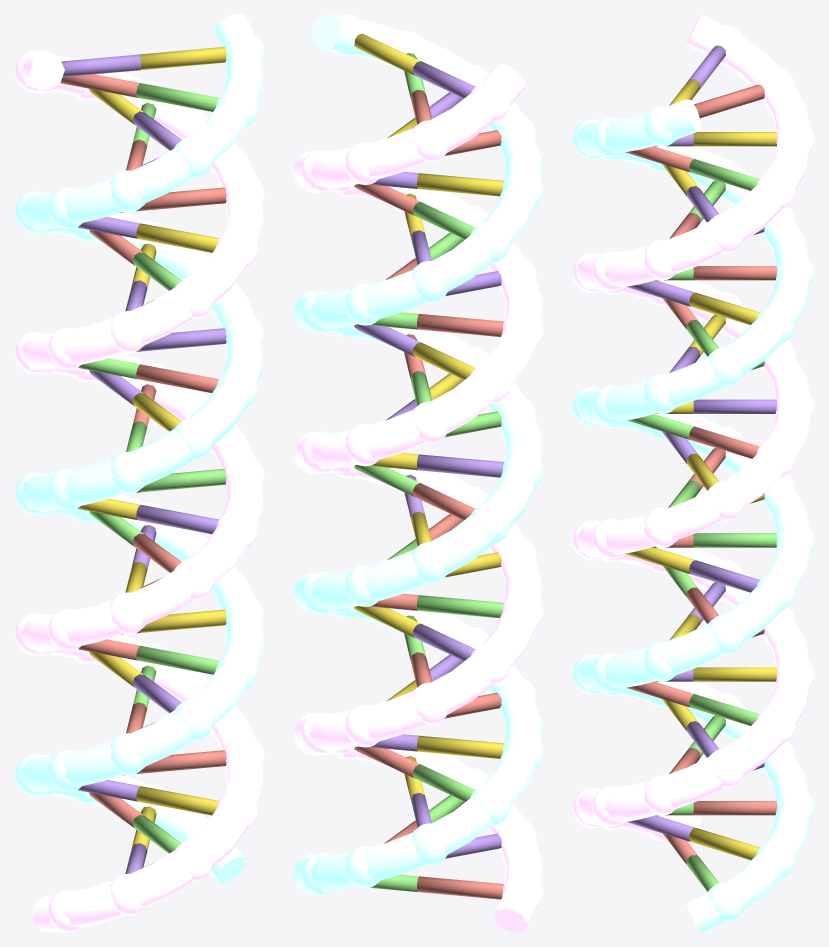
Rendered from S03_Sky_DNA_Helix.glb.
The picture shows the model from 3 angles, left to right: view 1: azimuth 30°, elevation 25°; view 2: azimuth 150°, elevation 25°; view 3: azimuth 270°, elevation 25°; orthographic projection. The views are drawn at different scales.
Visible parts, largest first — view 1: S03_Sky_DNA_Helix_Mesh; view 2: S03_Sky_DNA_Helix_Mesh; view 3: S03_Sky_DNA_Helix_Mesh.
Part boxes in pixels (left/top/right/bottom): S03_Sky_DNA_Helix_Mesh: left=14, top=14, right=264, bottom=932; S03_Sky_DNA_Helix_Mesh: left=293, top=14, right=543, bottom=932; S03_Sky_DNA_Helix_Mesh: left=572, top=14, right=814, bottom=932.
Size of the model in its own units: 3.76 by 14.51 by 3.84.
